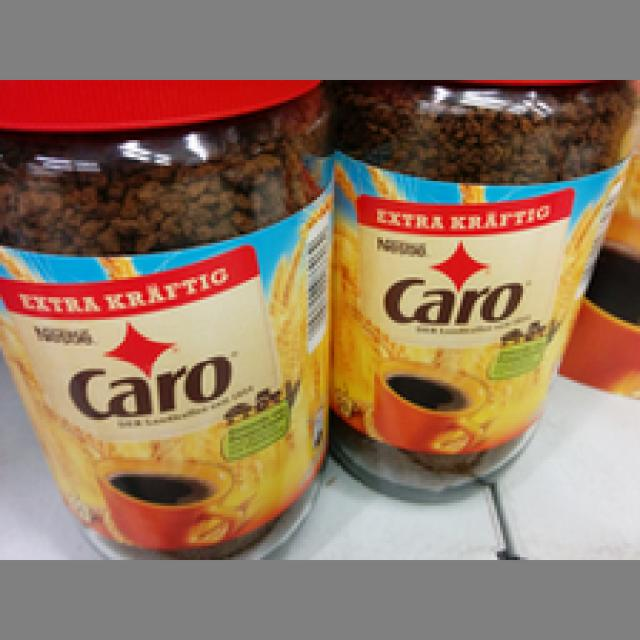groceries: (0, 77, 331, 554), (323, 77, 637, 503)
